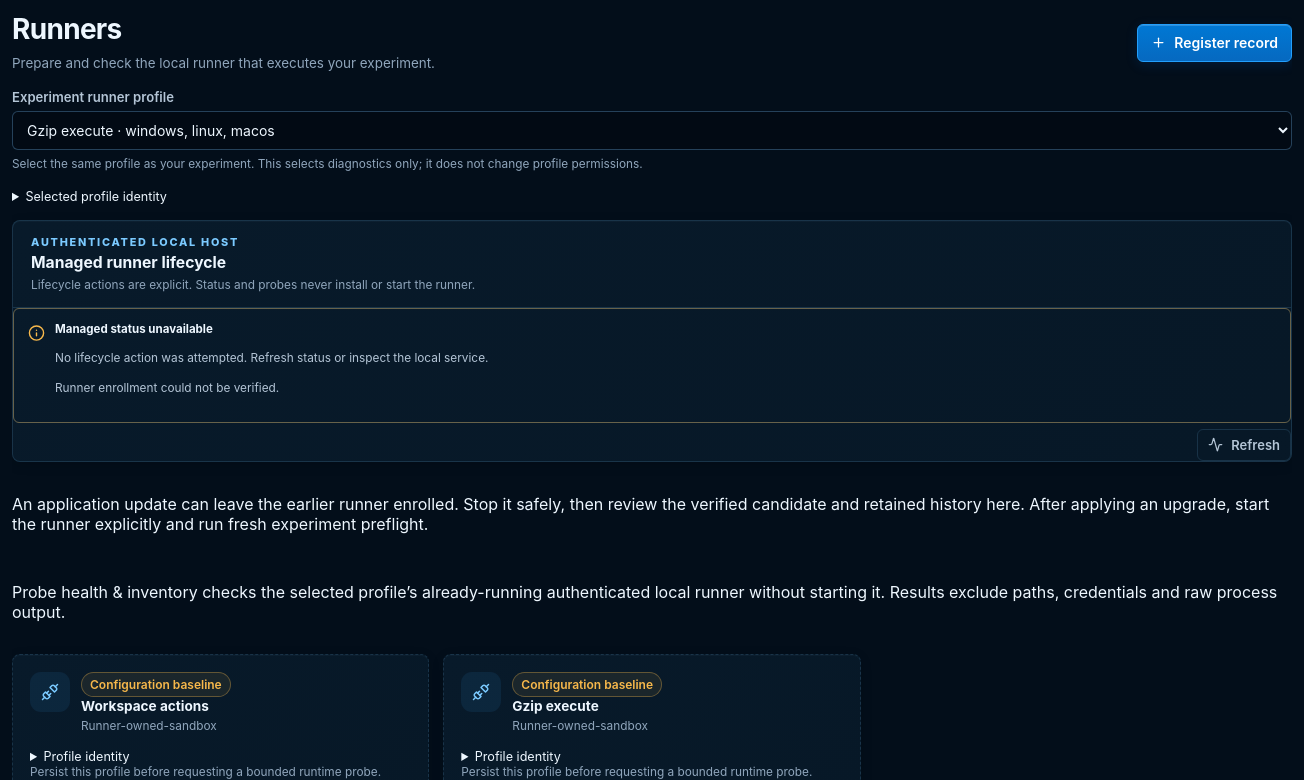
Test: keeps refresh available after a status error and displays its bounded refusal
Expected: the text "Managed status unavailable" is shown, 55,322 -> 213,336
Expected: the text "Runner enrollment could not be verified." is shown, 55,381 -> 279,395
Click the button "Refresh": click(1244, 445) 1197,429 -> 1291,461
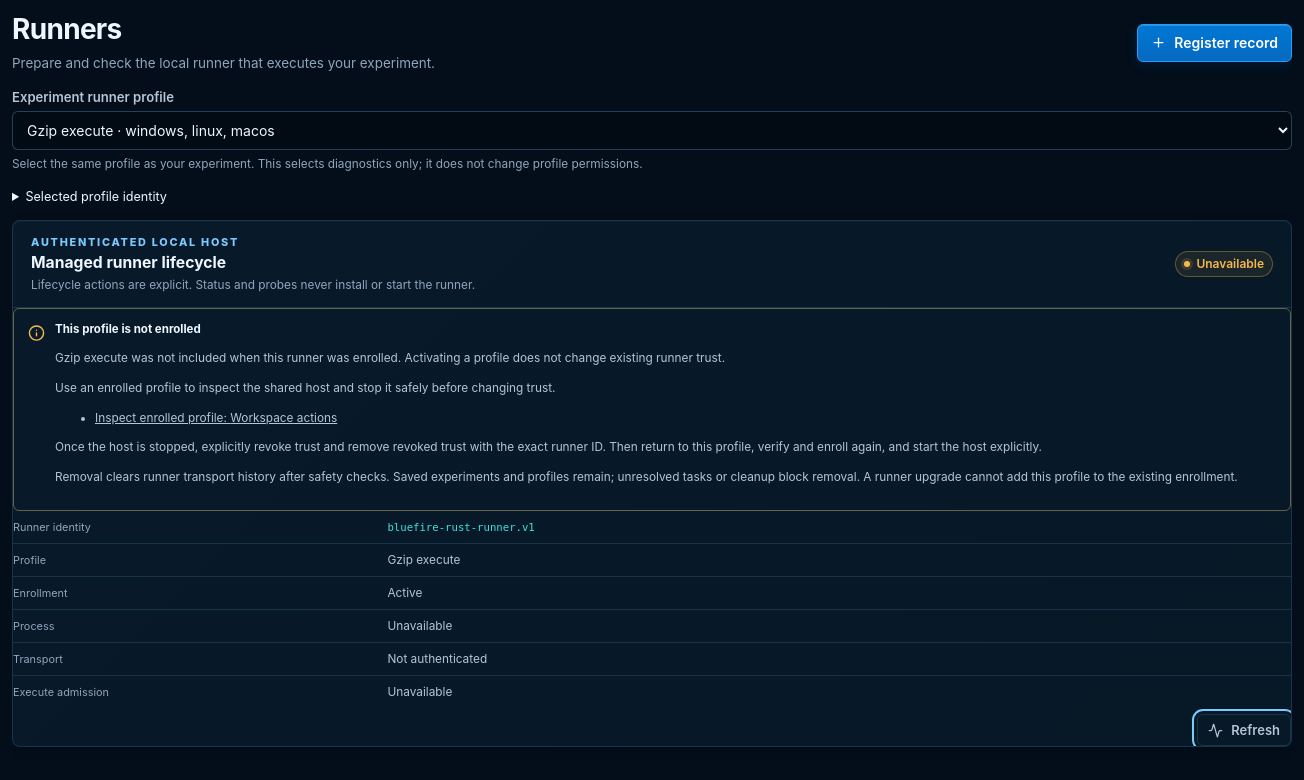
Expected: the text "This profile is not enrolled" is shown, 55,322 -> 201,336
